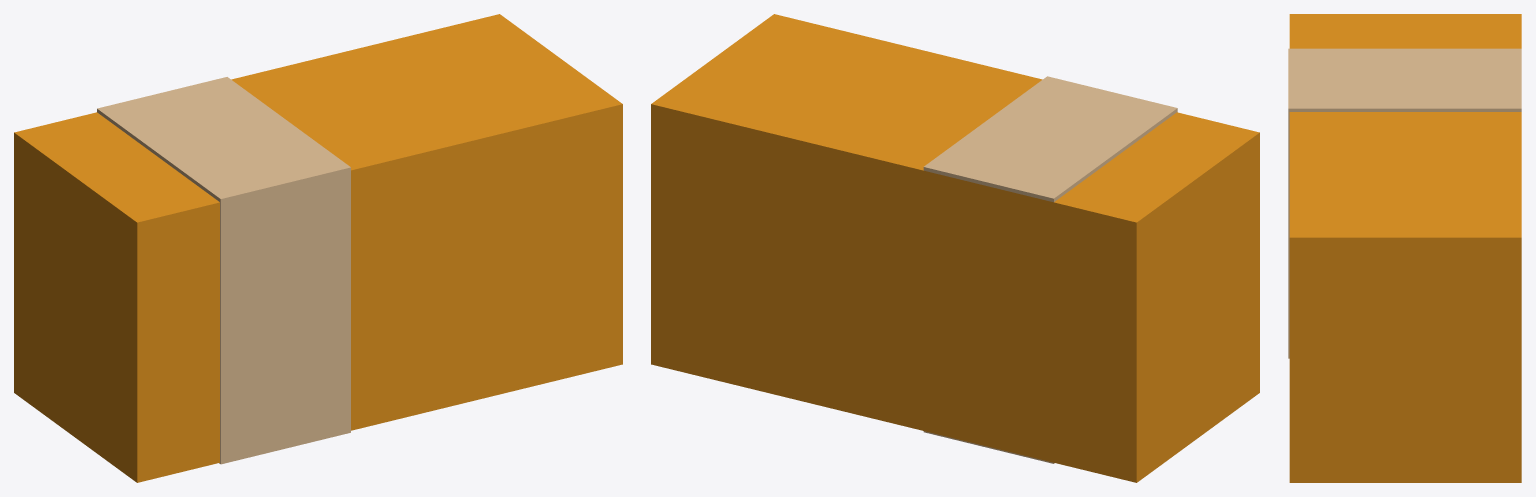
Rendered from tinker.obj.
3 renders of one model, left to right at view 1: azimuth 30°, elevation 25°; view 2: azimuth 150°, elevation 25°; view 3: azimuth 270°, elevation 25°, orthographic. The views are drawn at different scales.
Visible parts, largest first — view 1: group_0_15308573, group_0_14860437; view 2: group_0_15308573, group_0_14860437; view 3: group_0_15308573, group_0_14860437.
Part boxes in pixels (x1,y1,x2,y2): group_0_15308573: (14,14,622,482); group_0_14860437: (97,77,350,464); group_0_15308573: (651,14,1259,482); group_0_14860437: (923,76,1177,463); group_0_15308573: (1289,14,1521,482); group_0_14860437: (1288,48,1521,358).
Size of the model in its own units: 41 by 21.4 by 18.1.
